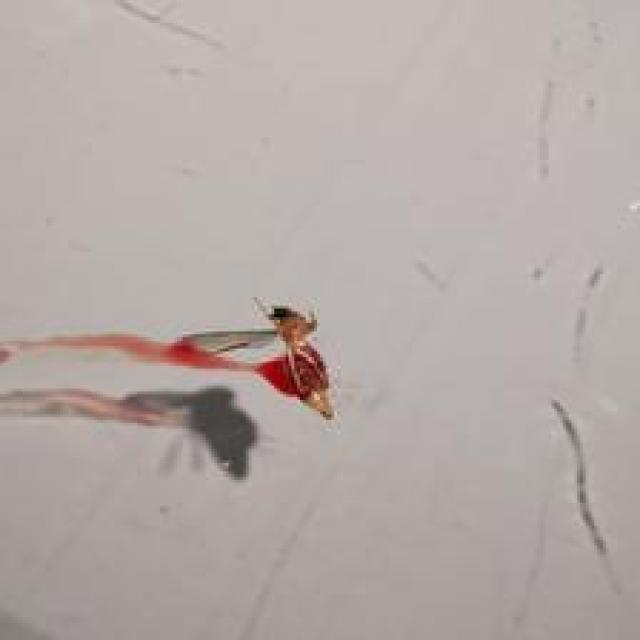Culex: (174, 296, 337, 421)
